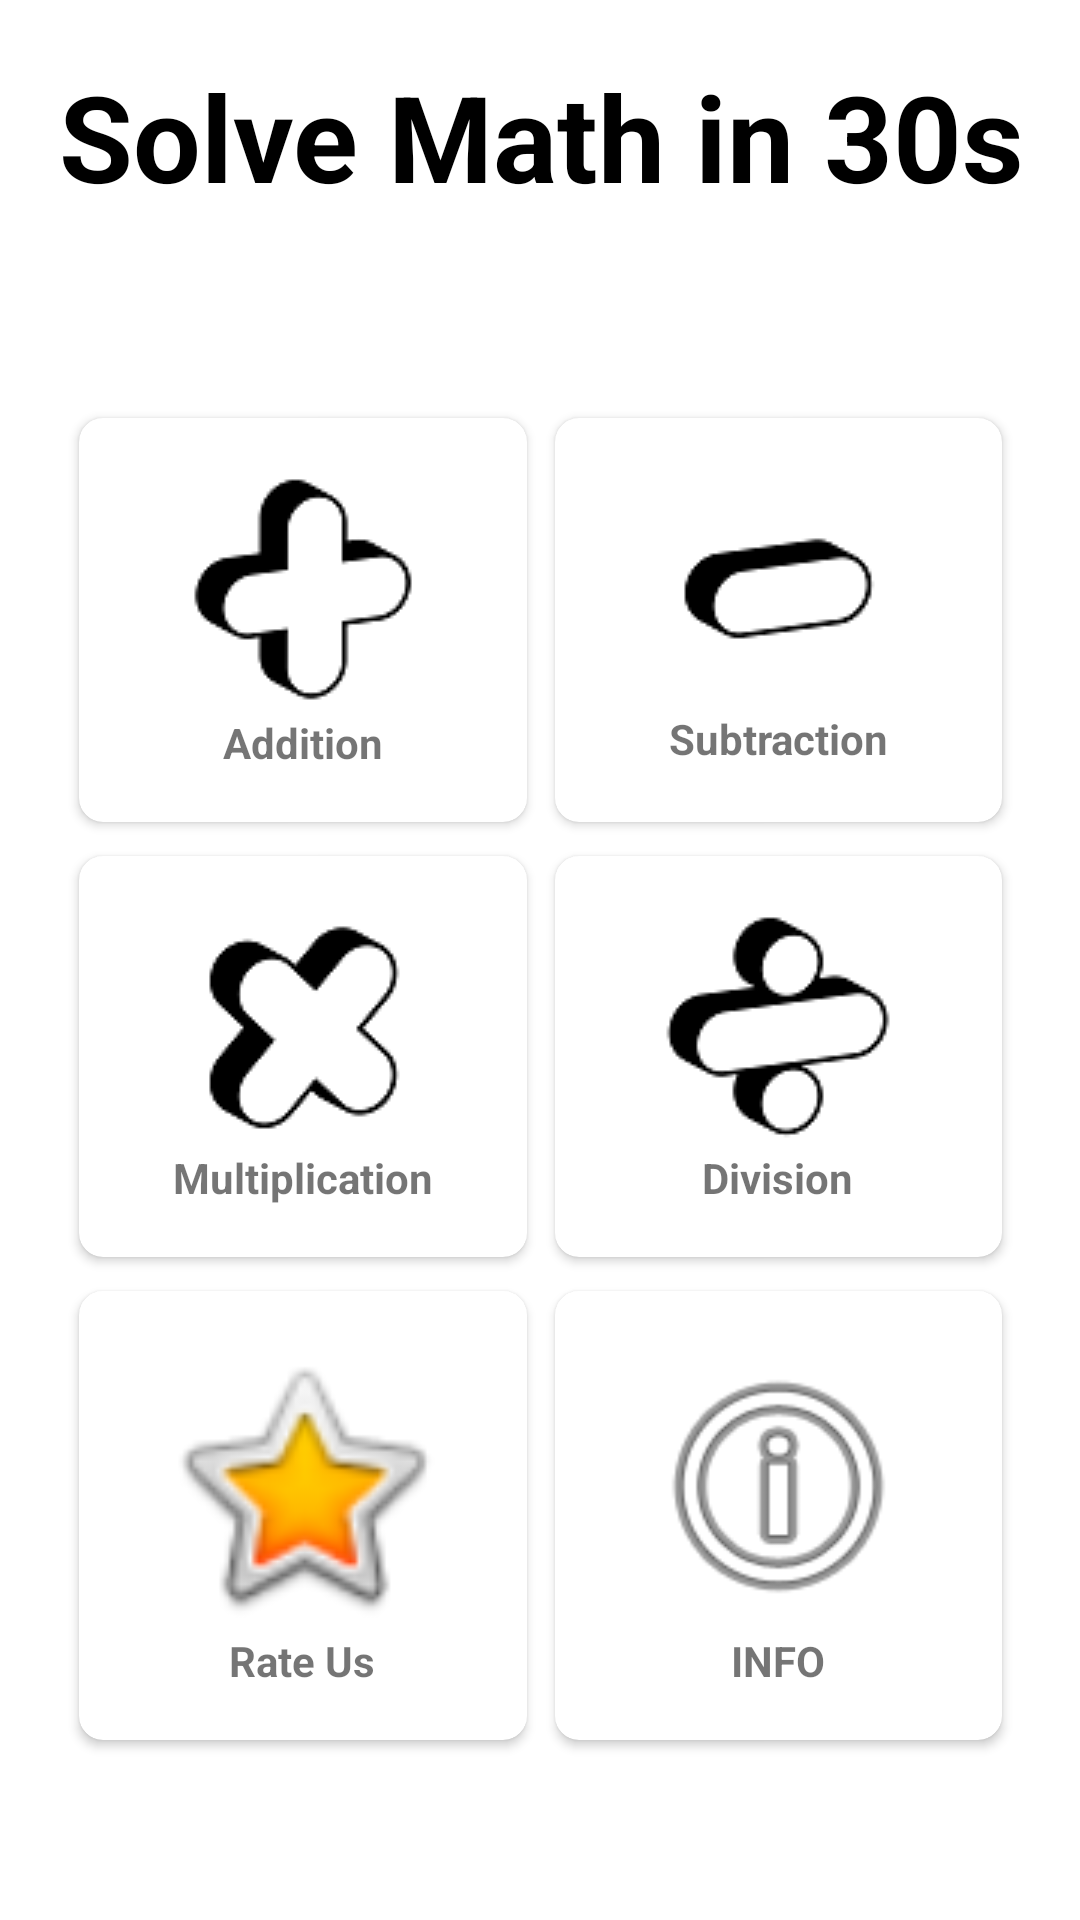

Icons on this 1080×1920 Android screen, each with its box as (x1, y1, x2, y2):
star on: (183, 1370, 427, 1607)
